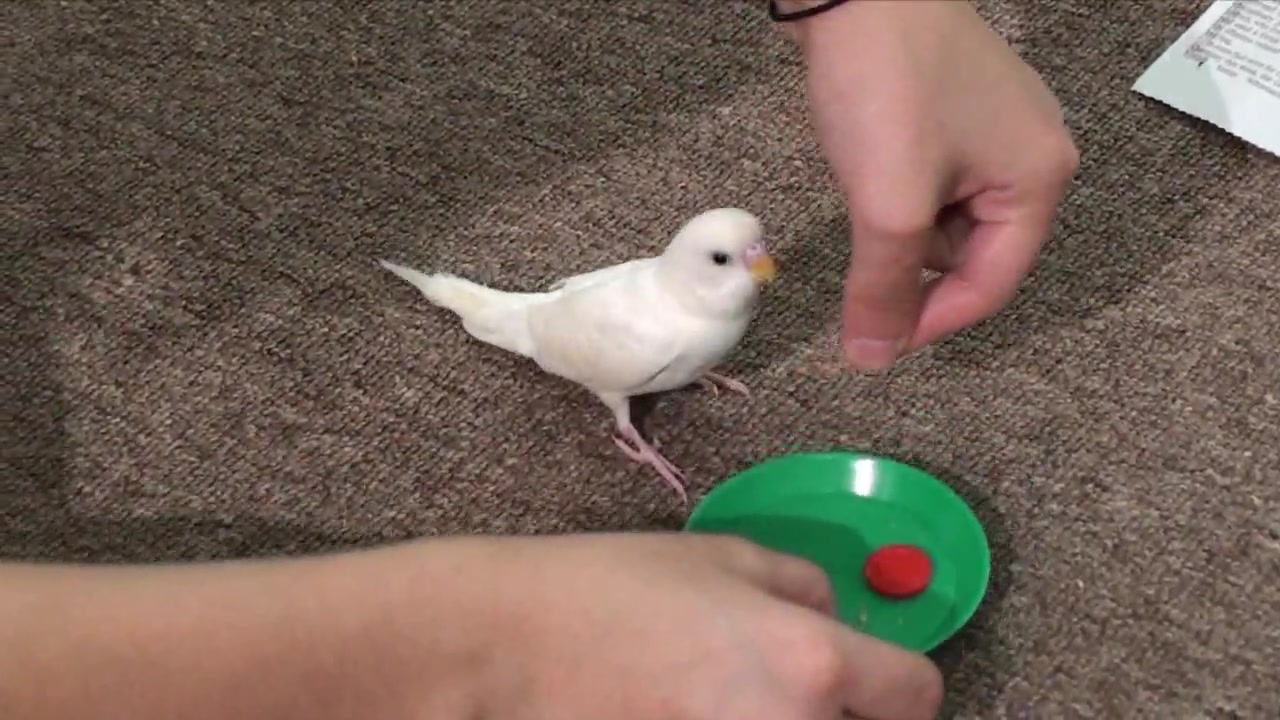bird: (376, 204, 781, 506)
